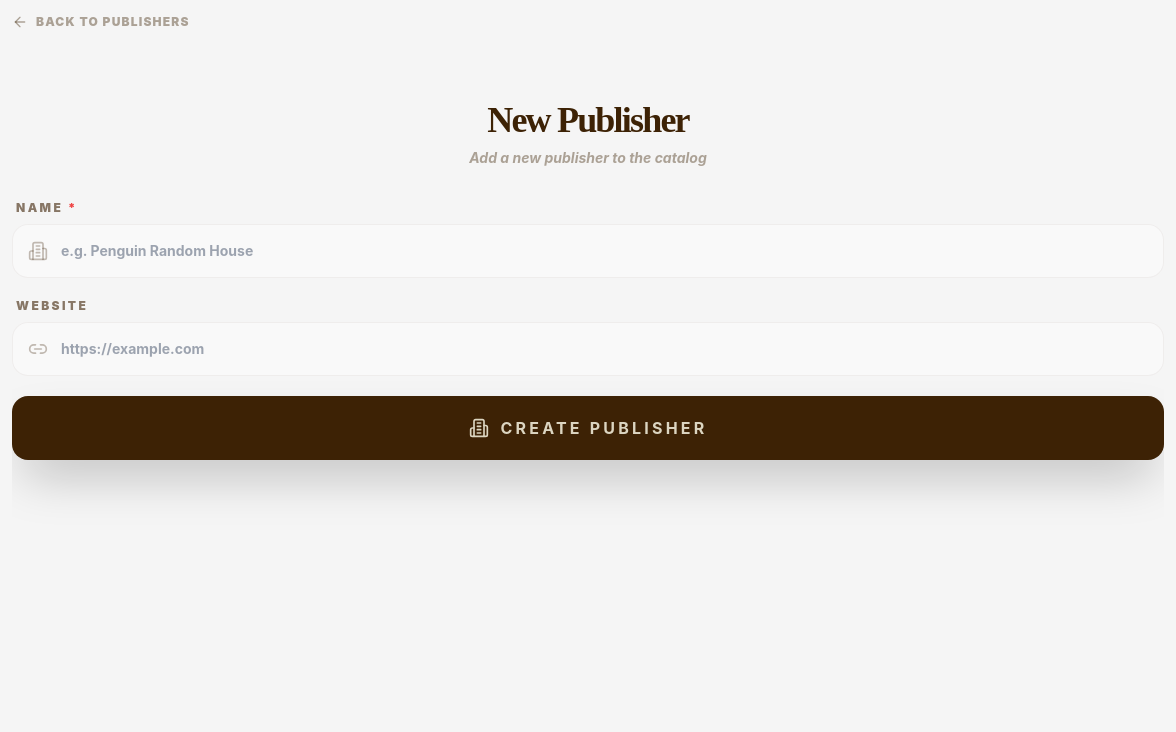
Test: PublisherNewPage › shows error when submitting with empty name
Expected: the text "Create Publisher" is shown, x1=501 y1=416 x2=707 y2=440
Click the button "Create Publisher": (588, 428) x1=12 y1=396 x2=1164 y2=460
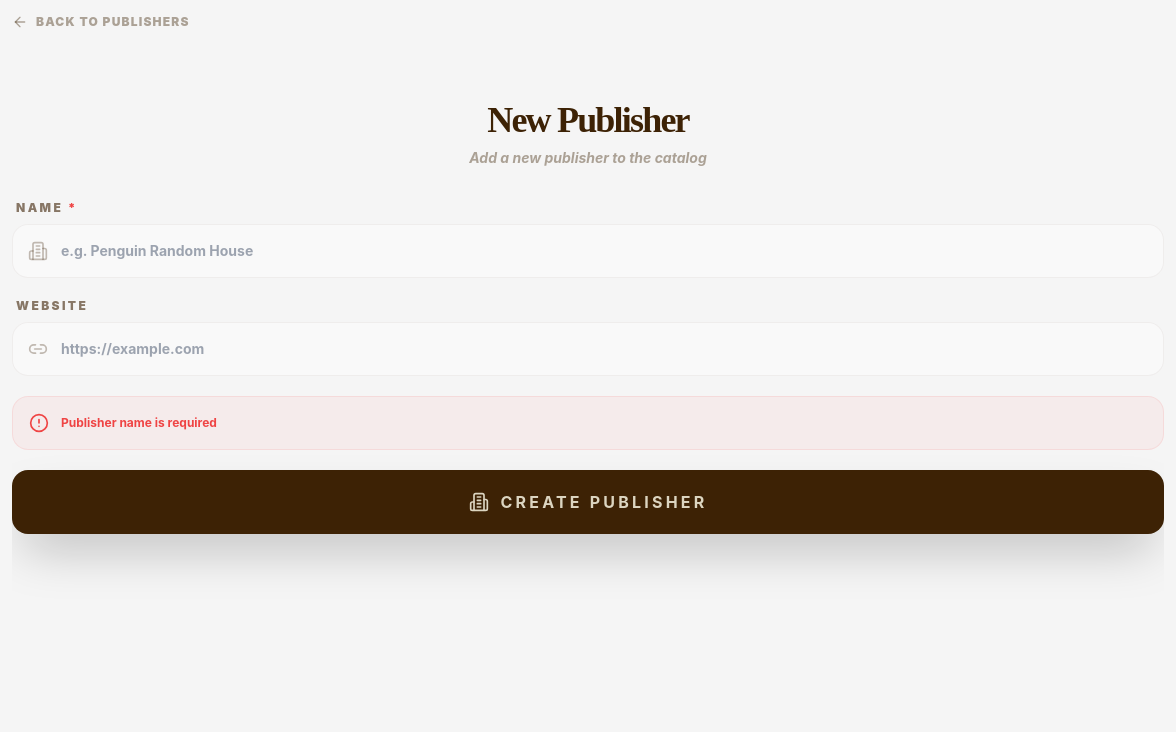
Result: the text "Publisher name is required" is shown at x1=61 y1=413 x2=217 y2=432
